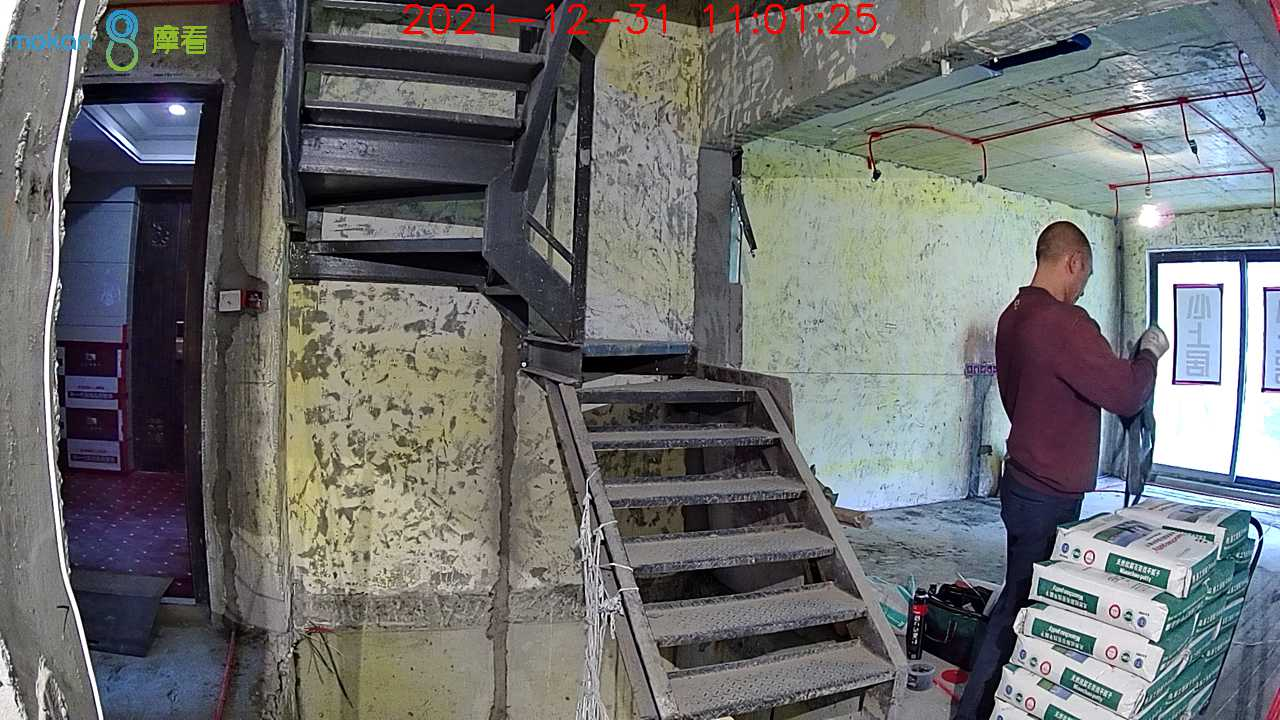people: (980, 217, 1164, 720)
window: (1148, 250, 1280, 483)
